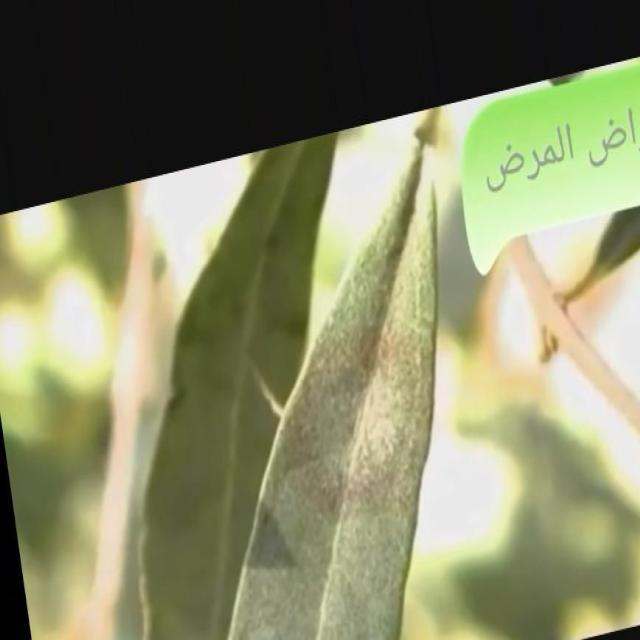OlivePeacockSpot: (131, 134, 336, 638), (231, 154, 434, 638)
